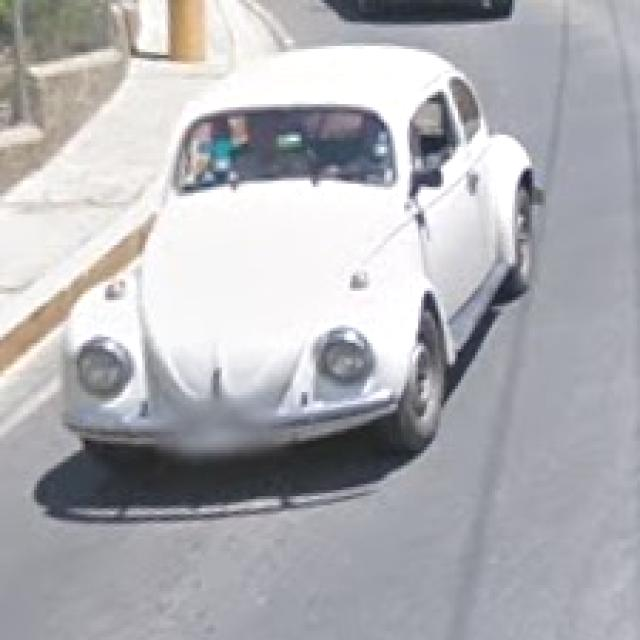car: (73, 49, 532, 479)
